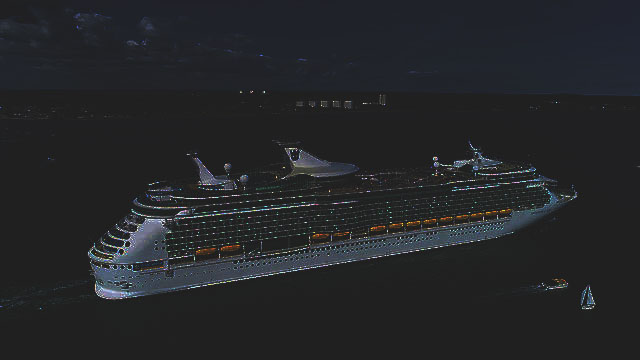boat: (579, 281, 600, 311), (538, 275, 572, 293)
cruise_ship: (88, 137, 576, 299)
